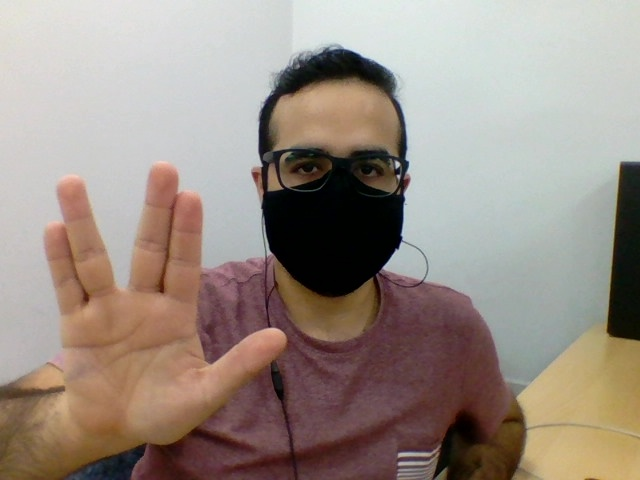LiveLong: (42, 160, 287, 448)
